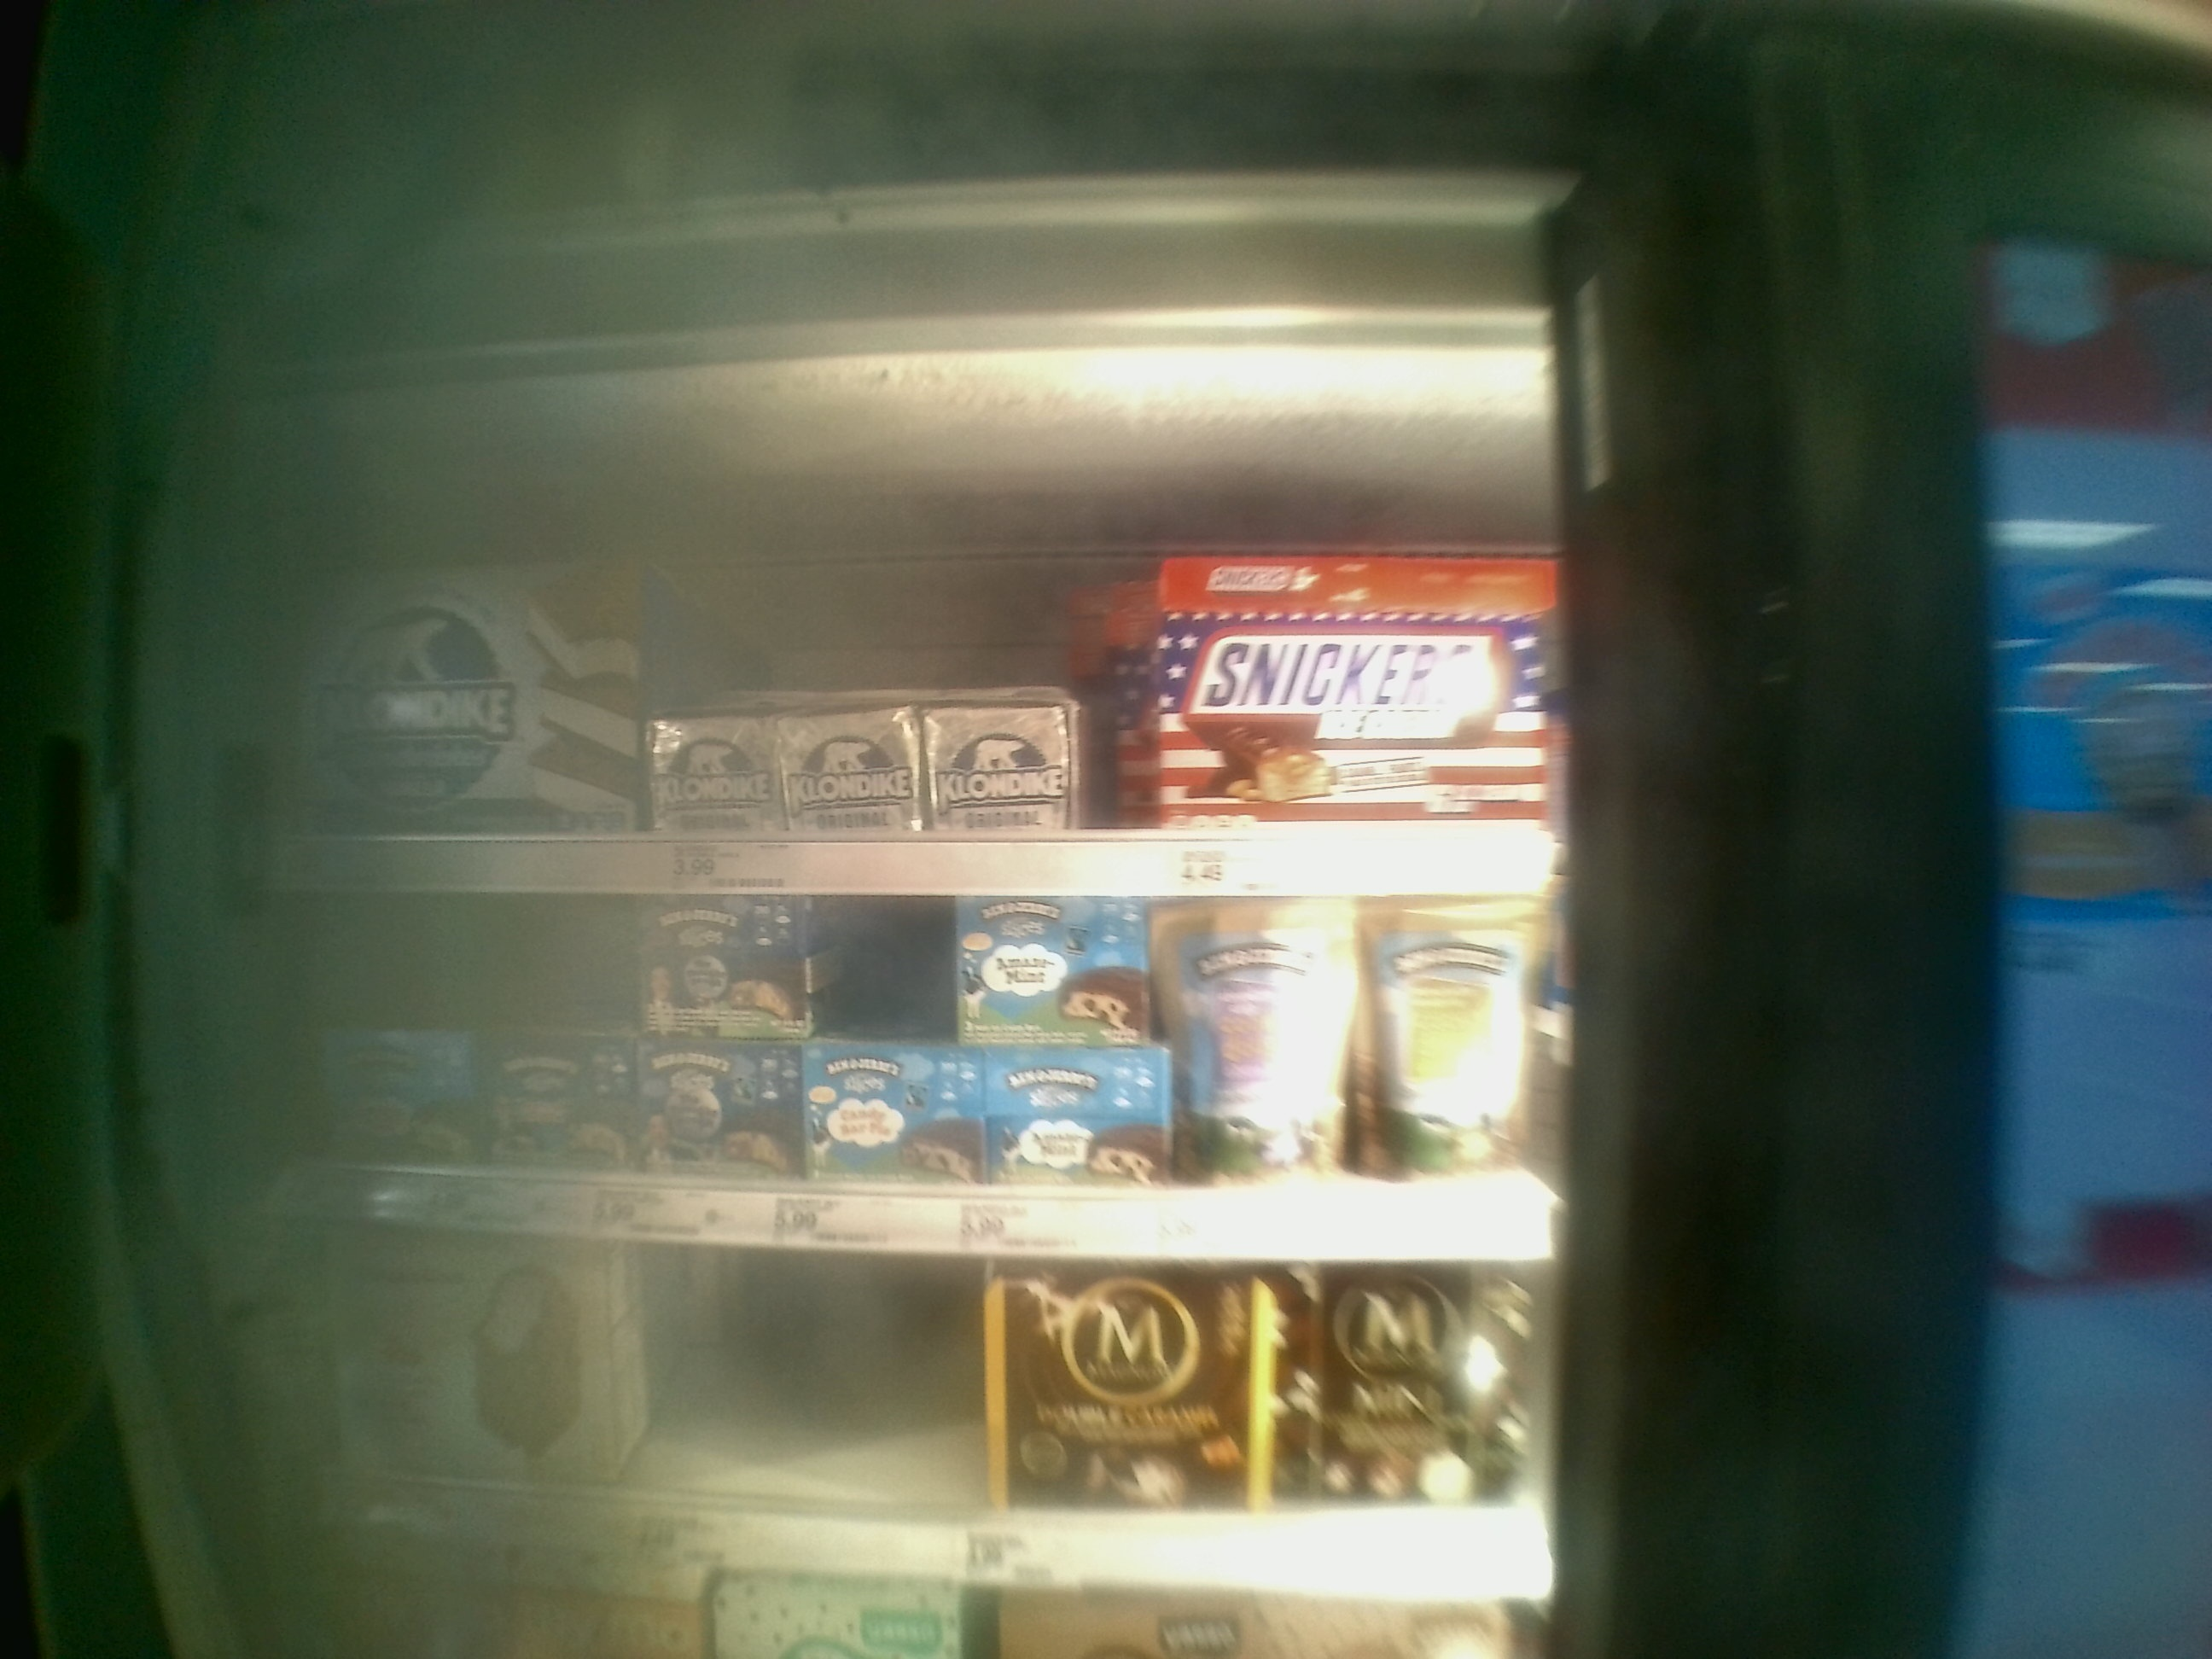ice-cream-shelf: (244, 467, 1587, 887)
